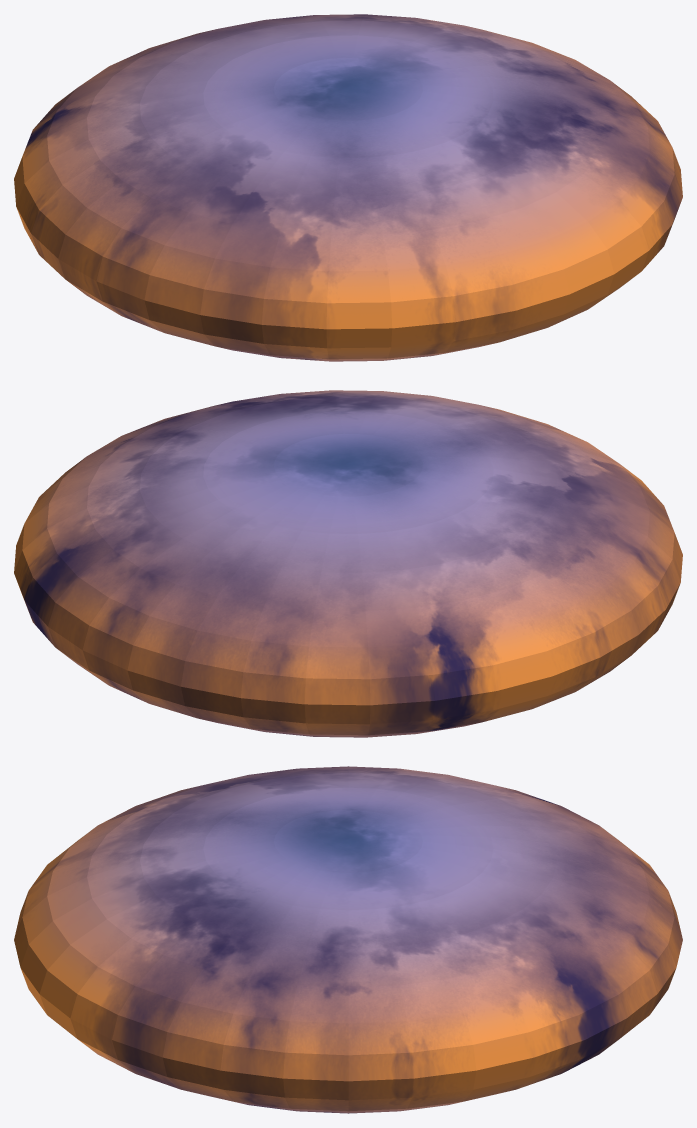
The model's file is skyDome.obj.
3 renders of one model, top to bottom at view 1: azimuth 30°, elevation 25°; view 2: azimuth 150°, elevation 25°; view 3: azimuth 270°, elevation 25°, orthographic.
Parts seen in each view (by area): view 1: dome; view 2: dome; view 3: dome.
Boxes of the visible parts, box(x1,y1,x2,y2) form: dome: box(14, 14, 682, 361); dome: box(14, 390, 682, 737); dome: box(14, 766, 682, 1113).
Bounding box in the file's own units: 60000 × 20000 × 60000.
